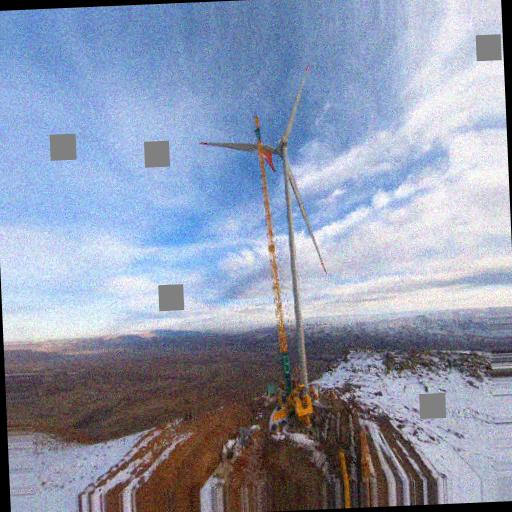wind turbine: (198, 61, 328, 394)
